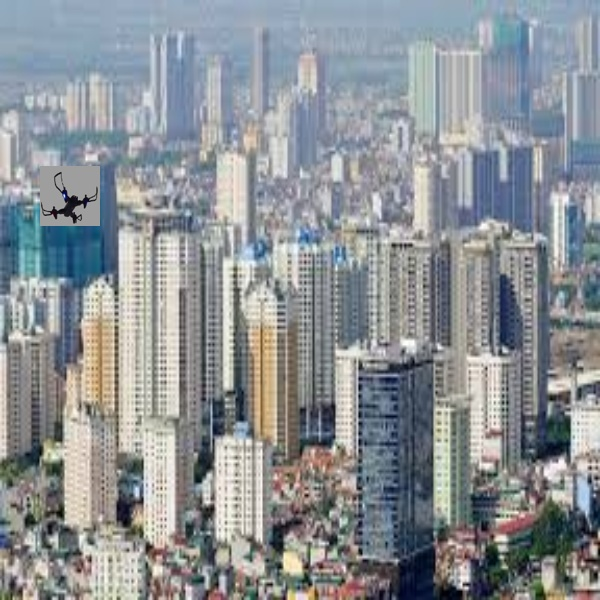drone: (34, 158, 103, 227)
